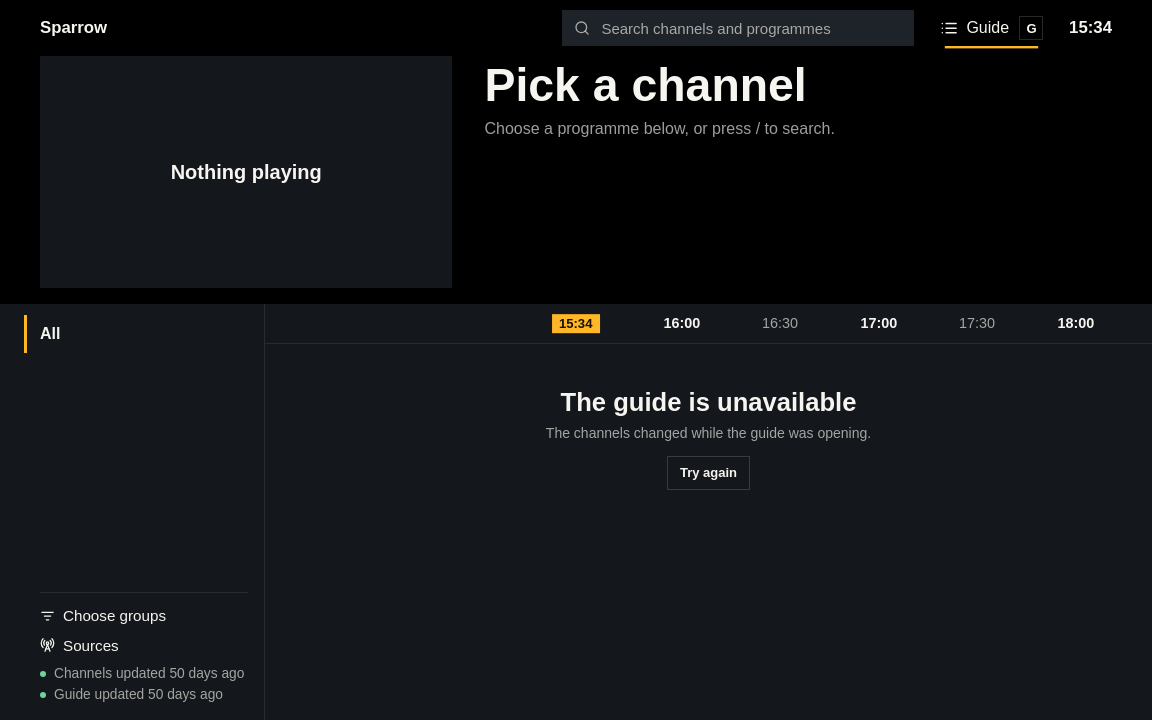
Test: CatalogBrowser shell › reconciles status before retrying a missed guide generation
This screenshot has width=1152, height=720.
Click the button "Try again".
click(709, 473)  # box [667,456,750,490]
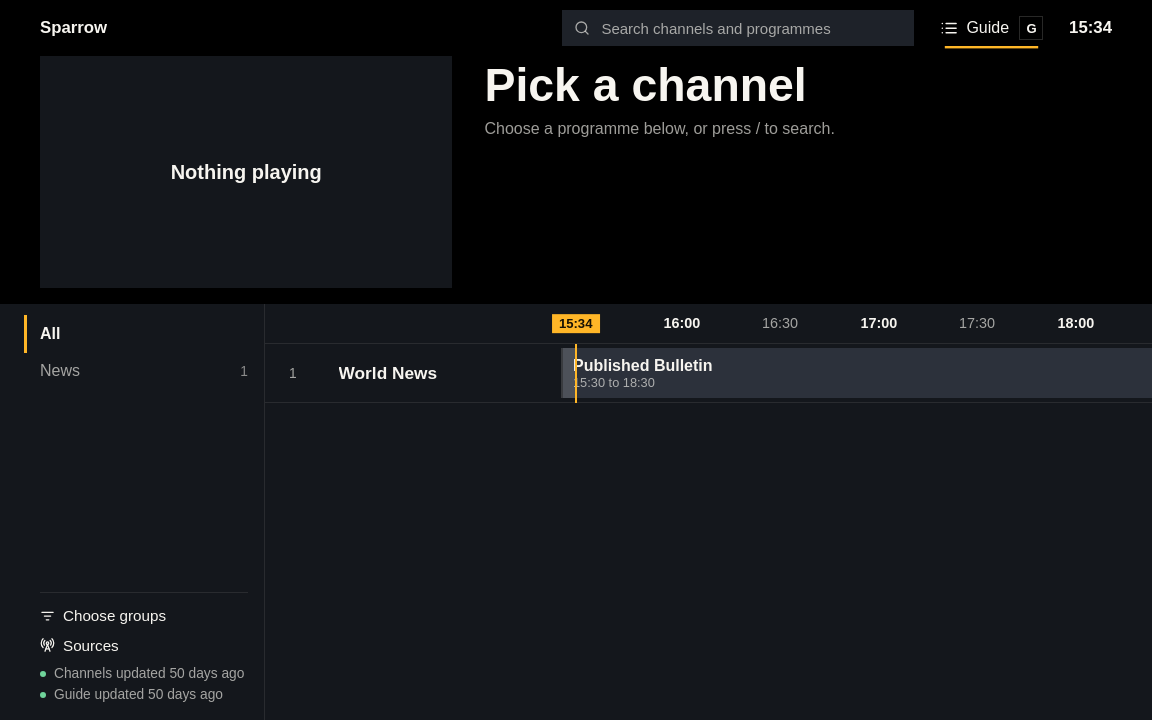
Check: the button with aria-label "Tune World News" is shown, box [339,344,545,402]
